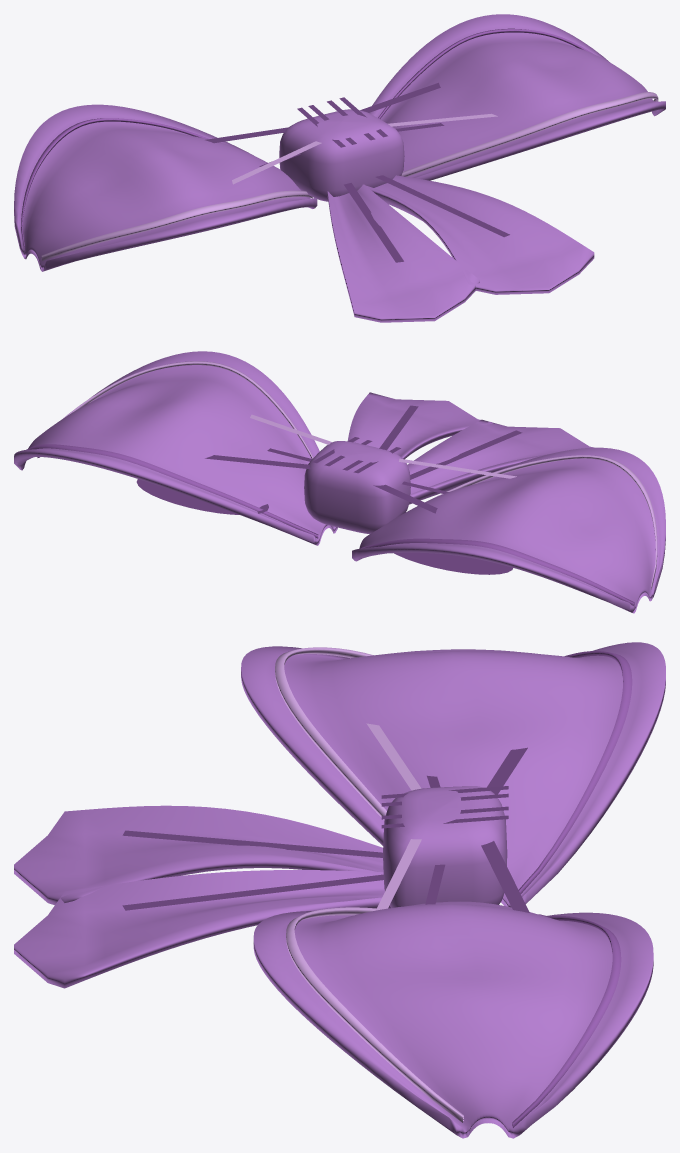
File: gift-bow.glb
3 renders of one model, top to bottom at view 1: azimuth 30°, elevation 25°; view 2: azimuth 150°, elevation 25°; view 3: azimuth 270°, elevation 25°, orthographic. The views are drawn at different scales.
Parts seen in each view (by area): view 1: Left_flowing_loop_sheet, Right_flowing_loop_sheet, Right_soft_v_cut_tail, Left_soft_v_cut_tail, gathered_wrapped_center_knot, Left_upper_lit_edge, Right_upper_lit_edge, Left_lower_raw_edge, Right_lower_raw_edge, Right_tail_center_fold, Left_tail_center_fold, radiating_fabric_fold_03 (+1 smaller); view 2: Right_flowing_loop_sheet, Left_flowing_loop_sheet, gathered_wrapped_center_knot, Left_soft_v_cut_tail, Right_soft_v_cut_tail, Right_lower_raw_edge, Left_loop_dark_inner_mouth, Left_lower_raw_edge, Left_upper_lit_edge, Right_upper_lit_edge, Right_loop_dark_inner_mouth, Left_tail_center_fold (+4 smaller); view 3: Right_flowing_loop_sheet, Left_flowing_loop_sheet, Right_soft_v_cut_tail, Left_soft_v_cut_tail, gathered_wrapped_center_knot, Right_upper_lit_edge, Left_upper_lit_edge, Left_lower_raw_edge, Right_lower_raw_edge, Right_tail_center_fold, Left_tail_center_fold, radiating_fabric_fold_03 (+2 smaller).
Part boxes in pixels (x1,y1,x2,y2): Left_flowing_loop_sheet: [14, 104, 317, 271]; Right_flowing_loop_sheet: [369, 14, 665, 180]; Right_soft_v_cut_tail: [362, 175, 594, 294]; Left_soft_v_cut_tail: [327, 184, 479, 322]; gathered_wrapped_center_knot: [279, 109, 404, 201]; Left_upper_lit_edge: [41, 190, 312, 260]; Right_upper_lit_edge: [401, 92, 658, 176]; Left_lower_raw_edge: [21, 118, 209, 252]; Right_lower_raw_edge: [378, 28, 592, 118]; Right_tail_center_fold: [375, 175, 509, 237]; Left_tail_center_fold: [344, 183, 403, 262]; radiating_fabric_fold_03: [360, 82, 440, 112]; Right_flowing_loop_sheet: [14, 351, 337, 545]; Left_flowing_loop_sheet: [352, 447, 665, 613]; gathered_wrapped_center_knot: [304, 441, 410, 533]; Left_soft_v_cut_tail: [407, 419, 593, 504]; Right_soft_v_cut_tail: [347, 392, 492, 459]; Right_lower_raw_edge: [26, 444, 318, 538]; Left_loop_dark_inner_mouth: [394, 552, 512, 574]; Left_lower_raw_edge: [361, 538, 634, 607]; Left_upper_lit_edge: [432, 455, 657, 589]; Right_upper_lit_edge: [63, 361, 313, 458]; Right_loop_dark_inner_mouth: [136, 479, 268, 514]; Left_tail_center_fold: [410, 430, 522, 479]; Right_flowing_loop_sheet: [253, 901, 653, 1138]; Left_flowing_loop_sheet: [241, 642, 665, 907]; Right_soft_v_cut_tail: [14, 870, 390, 988]; Left_soft_v_cut_tail: [14, 805, 383, 905]; gathered_wrapped_center_knot: [383, 786, 507, 907]; Right_upper_lit_edge: [286, 907, 463, 1122]; Left_upper_lit_edge: [275, 647, 386, 820]; Left_lower_raw_edge: [518, 651, 632, 893]; Right_lower_raw_edge: [512, 915, 621, 1127]; Right_tail_center_fold: [122, 874, 383, 910]; Left_tail_center_fold: [122, 830, 382, 857]; radiating_fabric_fold_03: [481, 841, 529, 912].
Size of the model in its own units: 1.21 by 0.1857 by 0.7713.
